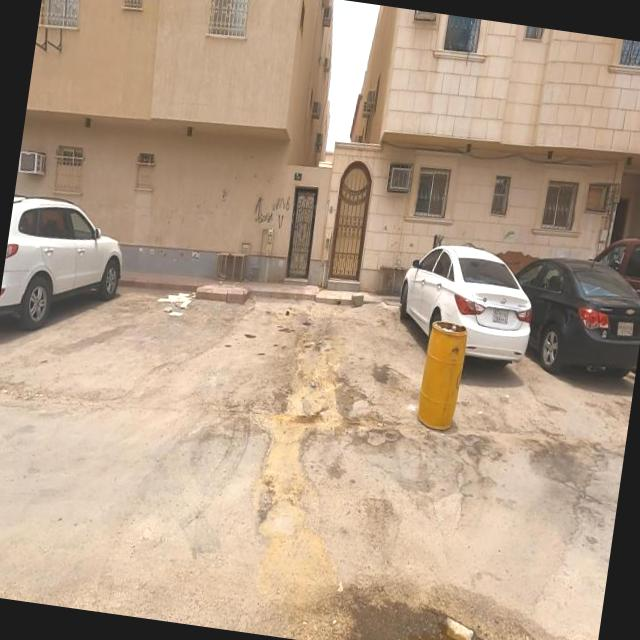debris: (118, 245, 228, 365)
